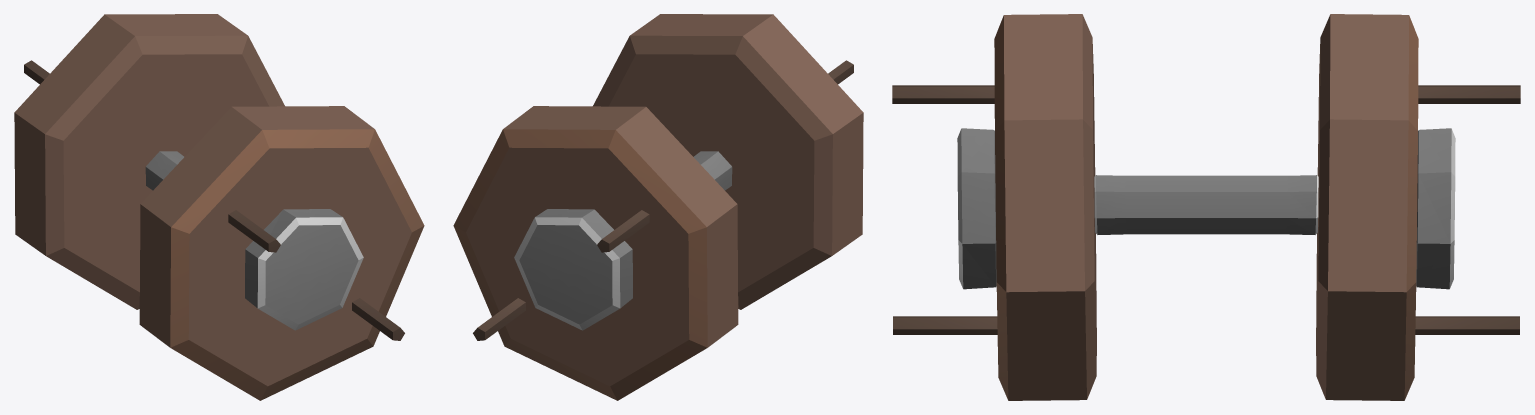
File: thebiggest_wheel.fbx
The picture shows the model from 3 angles, left to right: view 1: azimuth 30°, elevation 25°; view 2: azimuth 150°, elevation 25°; view 3: azimuth 270°, elevation 25°; orthographic projection. The views are drawn at different scales.
Parts seen in each view (by area): view 1: thebiggest_wheel; view 2: thebiggest_wheel; view 3: thebiggest_wheel.
Boxes of the visible parts, x1,y1,x2,y2 form: thebiggest_wheel: [14, 14, 424, 400]; thebiggest_wheel: [453, 14, 863, 400]; thebiggest_wheel: [892, 14, 1520, 400].
Bounding box in the file's own units: 1.52 × 1.56 × 2.54.
